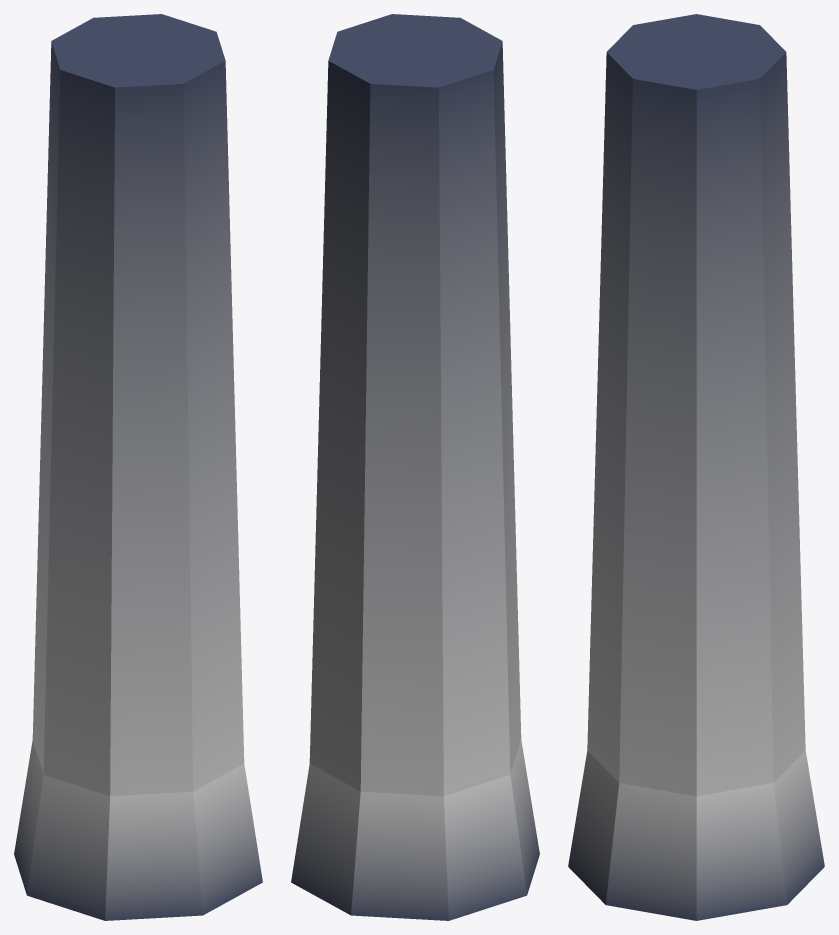
Rendered from Tree.Wood.obj.
3 renders of one model, left to right at view 1: azimuth 30°, elevation 25°; view 2: azimuth 150°, elevation 25°; view 3: azimuth 270°, elevation 25°, orthographic.
Parts seen in each view (by area): view 1: Cylinder; view 2: Cylinder; view 3: Cylinder.
Boxes of the visible parts, <box> form: Cylinder: <box>14,14,262,920</box>; Cylinder: <box>291,14,539,920</box>; Cylinder: <box>568,14,824,920</box>.
Size of the model in its own units: 2 by 7 by 2.
